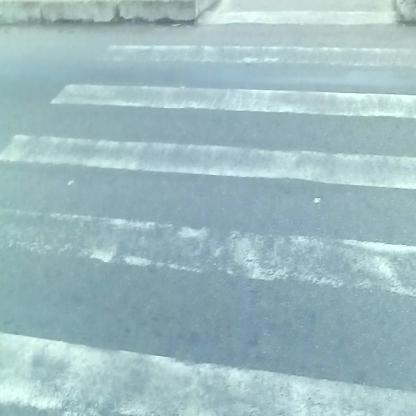crosswalk: (10, 34, 415, 416)
